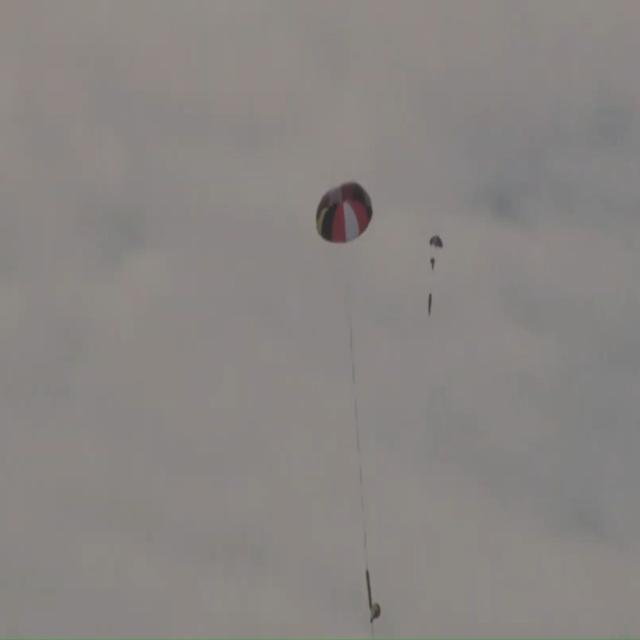Rocket: (366, 570, 377, 612)
